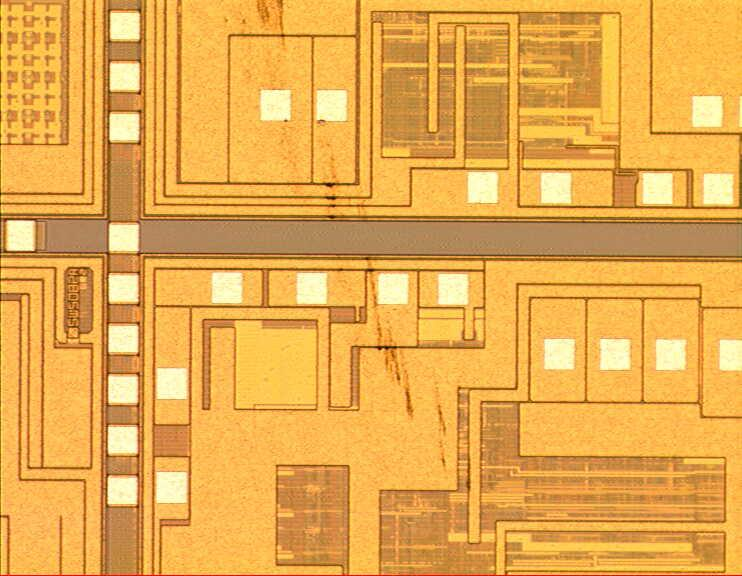SCRATCH: (167, 1, 477, 516)
